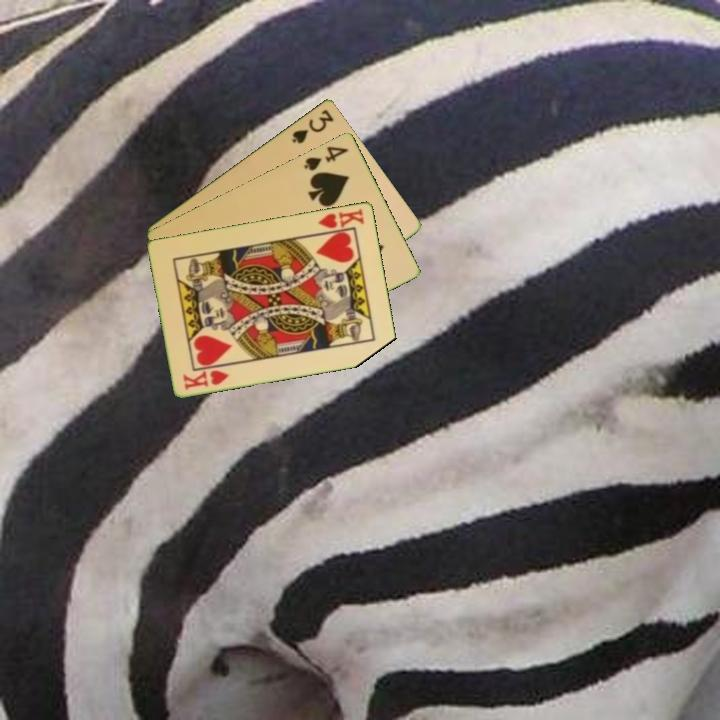3s: (288, 105, 337, 146)
4s: (300, 142, 352, 173)
Kh: (313, 205, 367, 236), (180, 366, 232, 392)
